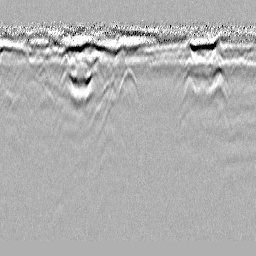cavity: (117, 66, 139, 99)
